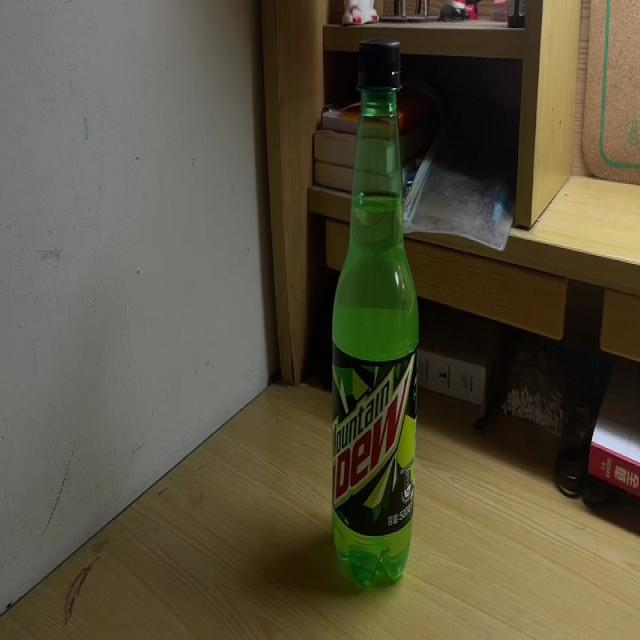Mountain-Dew: (331, 38, 418, 586)
